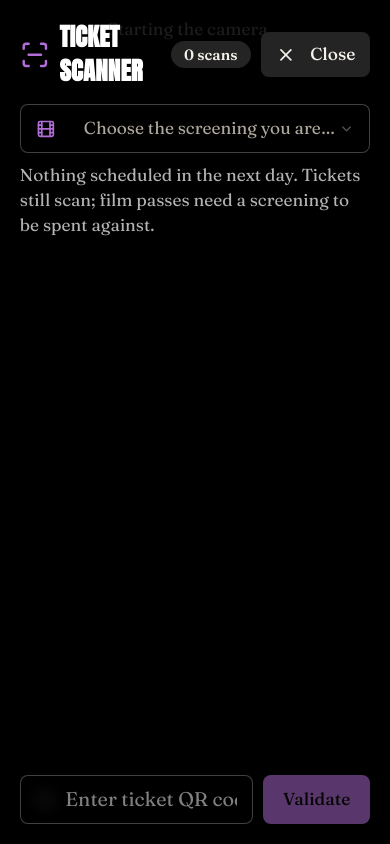
Test: TicketScanner - GA, event, and concert tickets › accepts a live performance (concert) ticket
This screenshot has width=390, height=844.
Type "QR-CONCERT" into the field with placeholder "Enter ticket QR code..." at (137, 799), box [20,775,253,824]
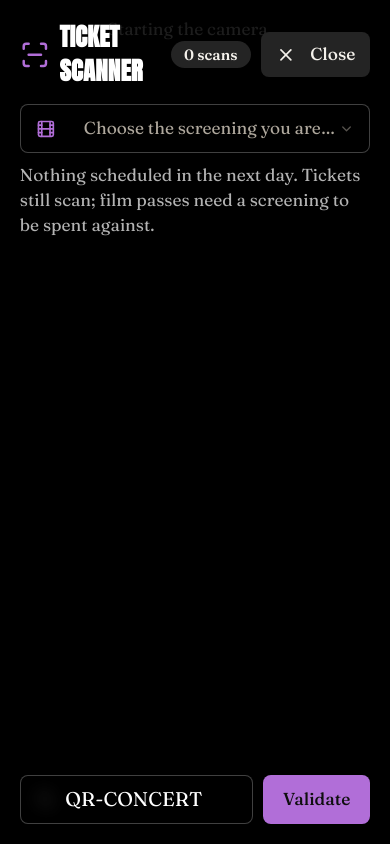
Click the button "Validate" at (317, 799), box [263,775,370,824]
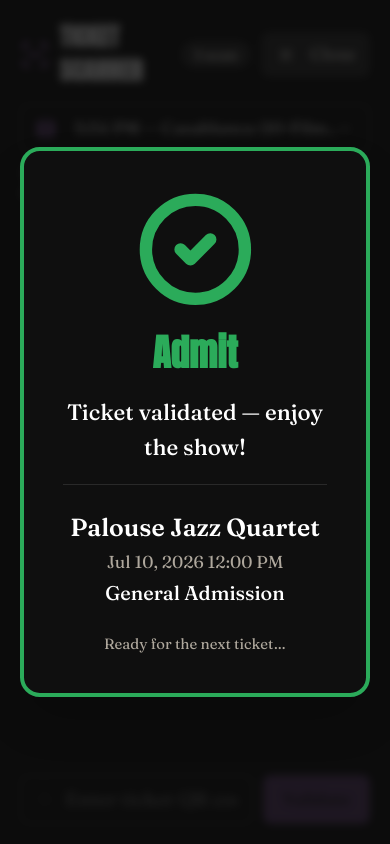
Check: the text "Ticket validated — enjoy the show!" is shown, box [63,395,327,464]
Check: the text "Palouse Jazz Quartet" is shown, box [63,495,327,545]
